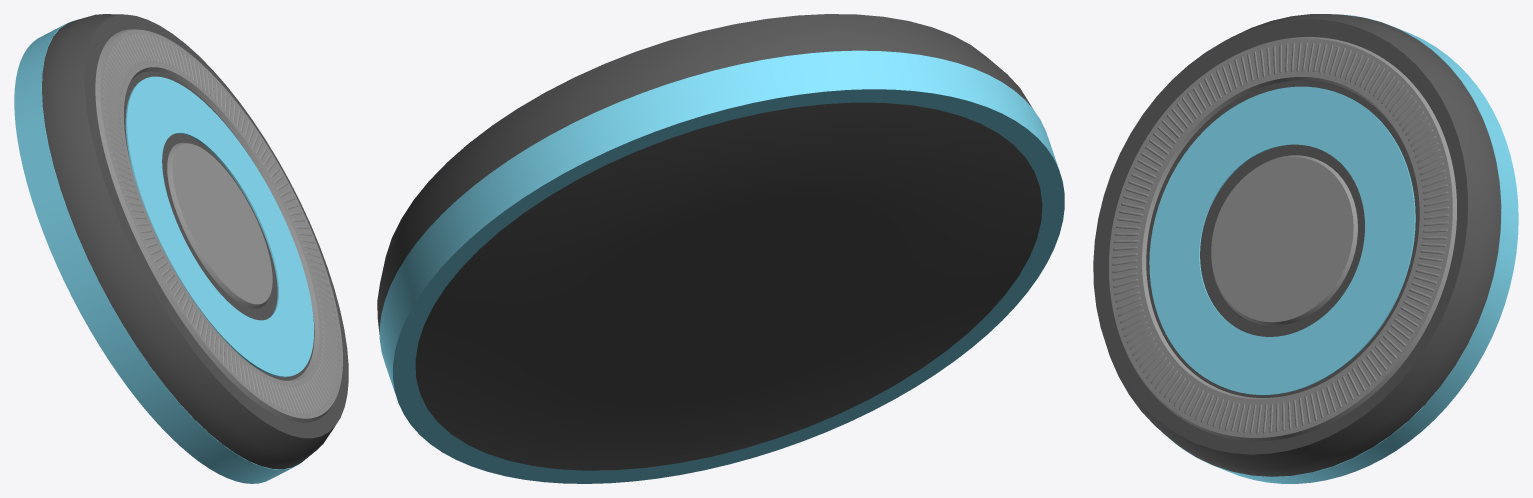
Rendered from demonstration_noCorona_anfrage.glb.
The picture shows the model from 3 angles, left to right: view 1: azimuth 30°, elevation 25°; view 2: azimuth 150°, elevation 25°; view 3: azimuth 270°, elevation 25°; orthographic projection. The views are drawn at different scales.
Visible parts, largest first — view 1: Tube (×2), Oil Tank, Rotate, Oil Tank.1; view 2: Oil Tank, Tube; view 3: Tube (×2), Oil Tank, Rotate, Oil Tank.1.
Part boxes in pixels (left/top/right/bottom): Tube (×2): left=14, top=20, right=313, bottom=483; Oil Tank: left=42, top=14, right=348, bottom=469; Rotate: left=95, top=29, right=342, bottom=422; Oil Tank.1: left=167, top=142, right=272, bottom=308; Oil Tank: left=377, top=14, right=1042, bottom=470; Tube: left=379, top=50, right=1064, bottom=483; Tube (×2): left=1149, top=14, right=1518, bottom=483; Oil Tank: left=1093, top=14, right=1501, bottom=476; Rotate: left=1109, top=37, right=1456, bottom=441; Oil Tank.1: left=1211, top=155, right=1357, bottom=325.
Size of the model in its own units: 5.05 by 5.38 by 5.38.
